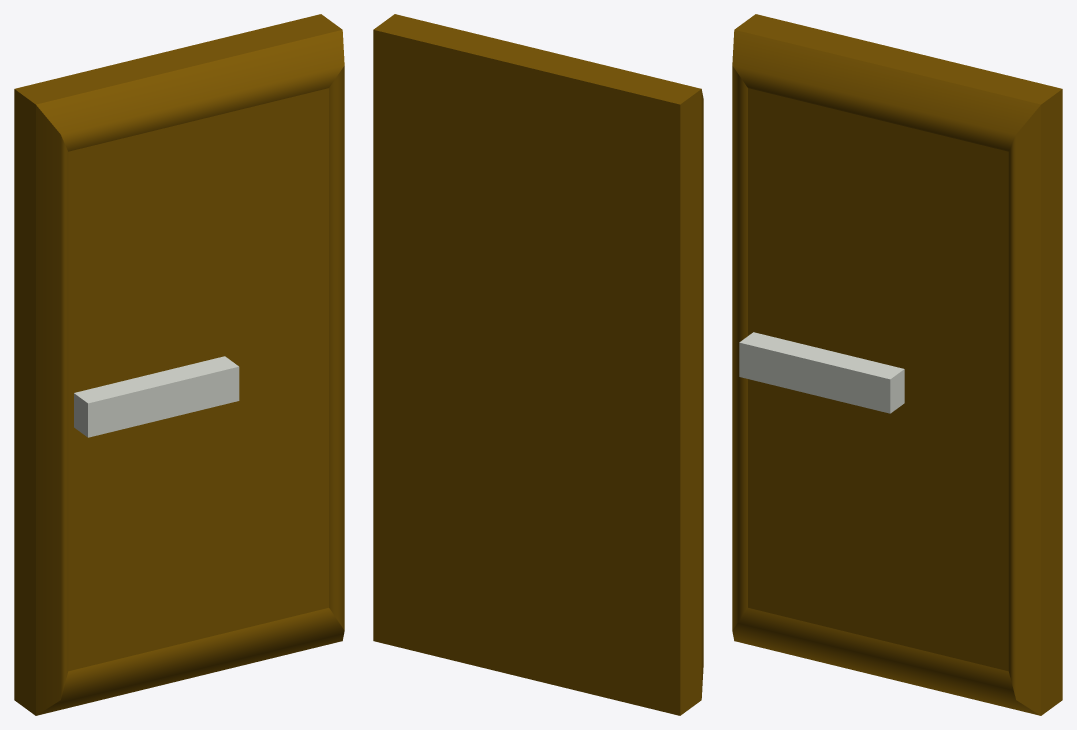
Rendered from soft_cupboard_2.fbx.
3 views of the same model, side by side, from view 1: azimuth 30°, elevation 25°; view 2: azimuth 150°, elevation 25°; view 3: azimuth 330°, elevation 25° (orthographic).
Visible parts, largest first — view 1: soft_cupboard_2; view 2: soft_cupboard_2; view 3: soft_cupboard_2.
Boxes of the visible parts, left/top/right/bottom form: soft_cupboard_2: left=14, top=14, right=344, bottom=715; soft_cupboard_2: left=373, top=14, right=703, bottom=715; soft_cupboard_2: left=732, top=14, right=1062, bottom=715.
Size of the model in its own units: 1.43 by 2.73 by 0.3653.
